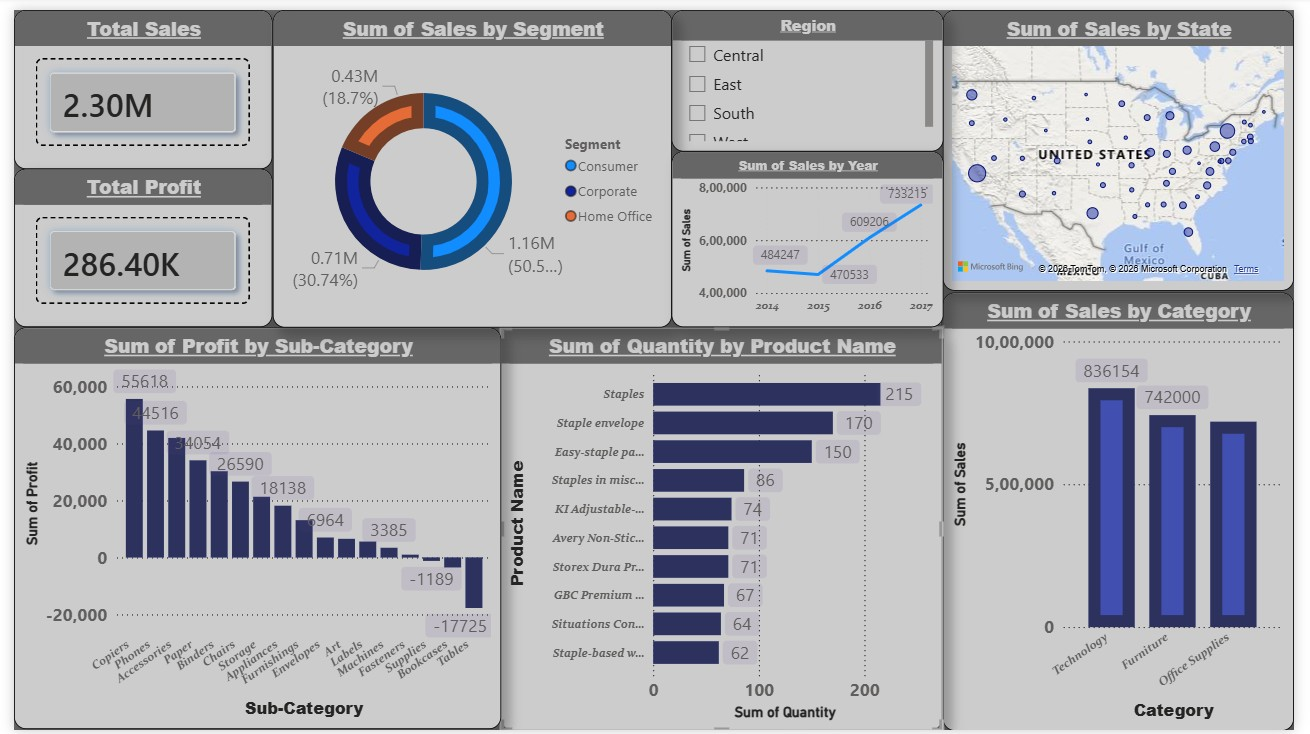

The dashboard page shown, as its layout file describes it:
{"tool":"powerbi","page":{"name":"Page 1","canvas":[1280,720],"ordinal":0},"visuals":[{"type":"cardVisual","title":"Total Sales","fields":{"Data":["Sum(Cleaned_Superstore_Data.Sales)"]},"box":[0,0,258.2,159.3],"z":0},{"type":"cardVisual","title":"Total Profit","fields":{"Data":["Sum(Cleaned_Superstore_Data.Profit)"]},"box":[0,159.3,258.2,158],"z":1000},{"type":"clusteredColumnChart","fields":{"Category":["Cleaned_Superstore_Data.Category"],"Y":["Sum(Cleaned_Superstore_Data.Sales)"]},"box":[929.3,282.4,351,438.4],"z":2000},{"type":"map","fields":{"Category":["Cleaned_Superstore_Data.State"],"Size":["Sum(Cleaned_Superstore_Data.Sales)"]},"box":[929.3,0,351,281.1],"z":3000},{"type":"slicer","title":"Region","fields":{"Values":["Cleaned_Superstore_Data.Region"]},"box":[657.6,0,271.7,141.2],"z":4000},{"type":"clusteredBarChart","fields":{"Category":["Cleaned_Superstore_Data.Product Name"],"Y":["Sum(Cleaned_Superstore_Data.Quantity)"]},"box":[486.8,317.4,442.4,403.4],"z":5000},{"type":"clusteredColumnChart","fields":{"Category":["Cleaned_Superstore_Data.Sub-Category"],"Y":["Sum(Cleaned_Superstore_Data.Profit)"]},"box":[0,317.3,487.4,401.7],"z":6000},{"type":"donutChart","fields":{"Category":["Cleaned_Superstore_Data.Segment"],"Y":["Sum(Cleaned_Superstore_Data.Sales)"]},"box":[258.2,0,399.3,317.3],"z":7000},{"type":"lineChart","fields":{"Category":["Cleaned_Superstore_Data.Order Date.Variation.Date Hierarchy.Year","Cleaned_Superstore_Data.Order Date.Variation.Date Hierarchy.Quarter","Cleaned_Superstore_Data.Order Date.Variation.Date Hierarchy.Month","Cleaned_Superstore_Data.Order Date.Variation.Date Hierarchy.Day"],"Y":["Sum(Cleaned_Superstore_Data.Sales)"]},"box":[657.6,141.2,271.7,176.2],"z":8000}]}

Visuals, with their boxes in screenshot pixels (x1, y1, x2, y2), scaled from the page's 1280x720 canvas onto the 1310x734 screenshot:
"Total Sales" cardVisual: region(0, 0, 264, 162)
"Total Profit" cardVisual: region(0, 162, 264, 323)
clusteredColumnChart - Cleaned_Superstore_Data.Category x Sum(Cleaned_Superstore_Data.Sales): region(951, 288, 1309, 733)
map - Cleaned_Superstore_Data.State x Sum(Cleaned_Superstore_Data.Sales): region(951, 0, 1309, 287)
"Region" slicer: region(673, 0, 951, 144)
clusteredBarChart - Cleaned_Superstore_Data.Product Name x Sum(Cleaned_Superstore_Data.Quantity): region(498, 324, 951, 733)
clusteredColumnChart - Cleaned_Superstore_Data.Sub-Category x Sum(Cleaned_Superstore_Data.Profit): region(0, 323, 499, 733)
donutChart - Cleaned_Superstore_Data.Segment x Sum(Cleaned_Superstore_Data.Sales): region(264, 0, 673, 323)
lineChart - Cleaned_Superstore_Data.Order Date.Variation.Date Hierarchy.Year x Cleaned_Superstore_Data.Order Date.Variation.Date Hierarchy.Quarter: region(673, 144, 951, 324)
